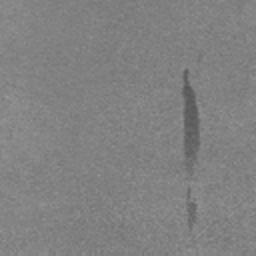Red iron sheet: (182, 69, 200, 172), (187, 203, 196, 228)
